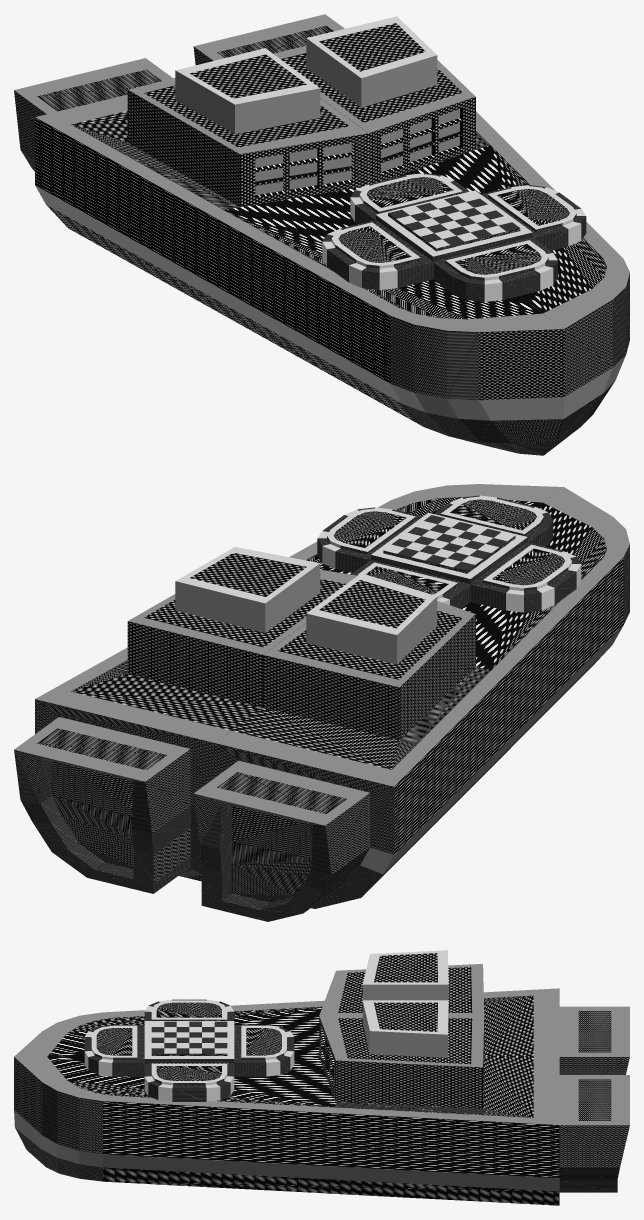
Rendered from BLACK_RepairShip.fbx.
3 views of the same model, one above another, from view 1: azimuth 30°, elevation 25°; view 2: azimuth 150°, elevation 25°; view 3: azimuth 270°, elevation 25° (orthographic). The views are drawn at different scales.
Visible parts, largest first — view 1: Cube, Cube.001; view 2: Cube, Cube.001; view 3: Cube, Cube.001.
Part boxes in pixels (left/top/right/bottom): Cube: left=14, top=14, right=629, bottom=455; Cube.001: left=322, top=173, right=586, bottom=301; Cube: left=14, top=484, right=629, bottom=921; Cube.001: left=317, top=495, right=581, bottom=612; Cube: left=14, top=950, right=629, bottom=1205; Cube.001: left=84, top=999, right=294, bottom=1101.
Bounding box in the file's own units: 443 × 264 × 843.
